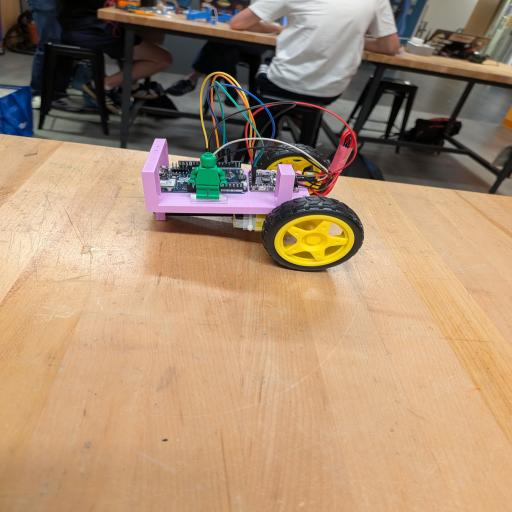Minifig: (189, 152, 227, 200)
